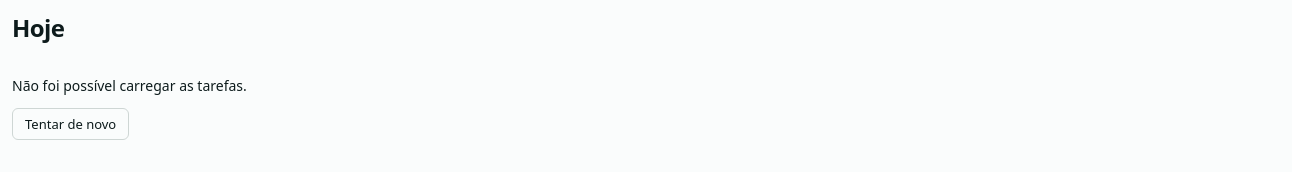
Scenario: TodayPage › mostra um erro com nova tentativa quando a lista não carrega
expect the text "Não foi possível carregar as tarefas." is shown: met, box [12, 76, 247, 95]
Click the button "Tentar de novo".
click(71, 124)  # box [12, 108, 129, 140]
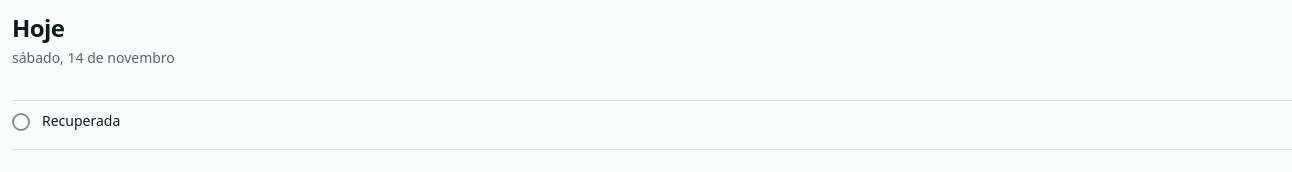
expect the text "Recuperada" is shown: met, box [42, 111, 120, 130]
